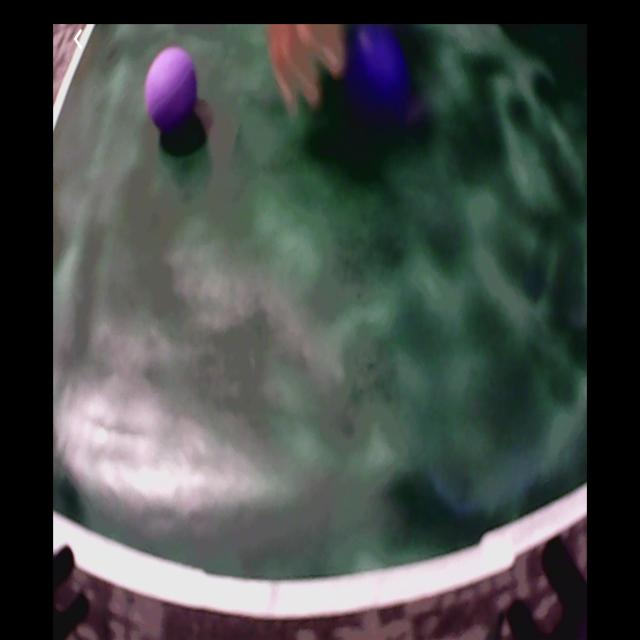ball: (347, 30, 406, 112), (147, 49, 198, 124)
